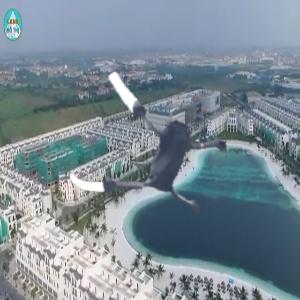drone: (62, 54, 250, 242)
